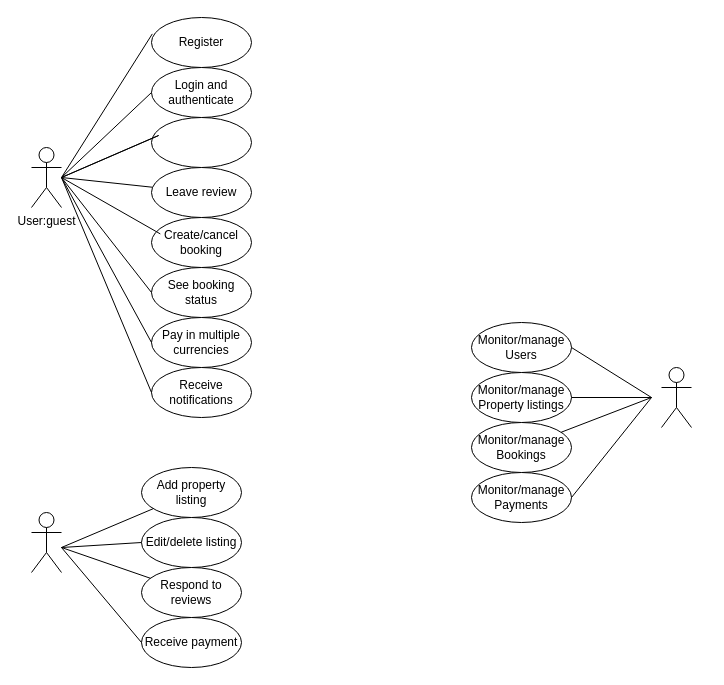
This 724x685 diagram has some shape labels left out. Each missing label, with the centre of its shape:
"Search/filter properties" belongs at (201,142).
"User:admin" belongs at (676,397).
"User:host" belongs at (46,542).
